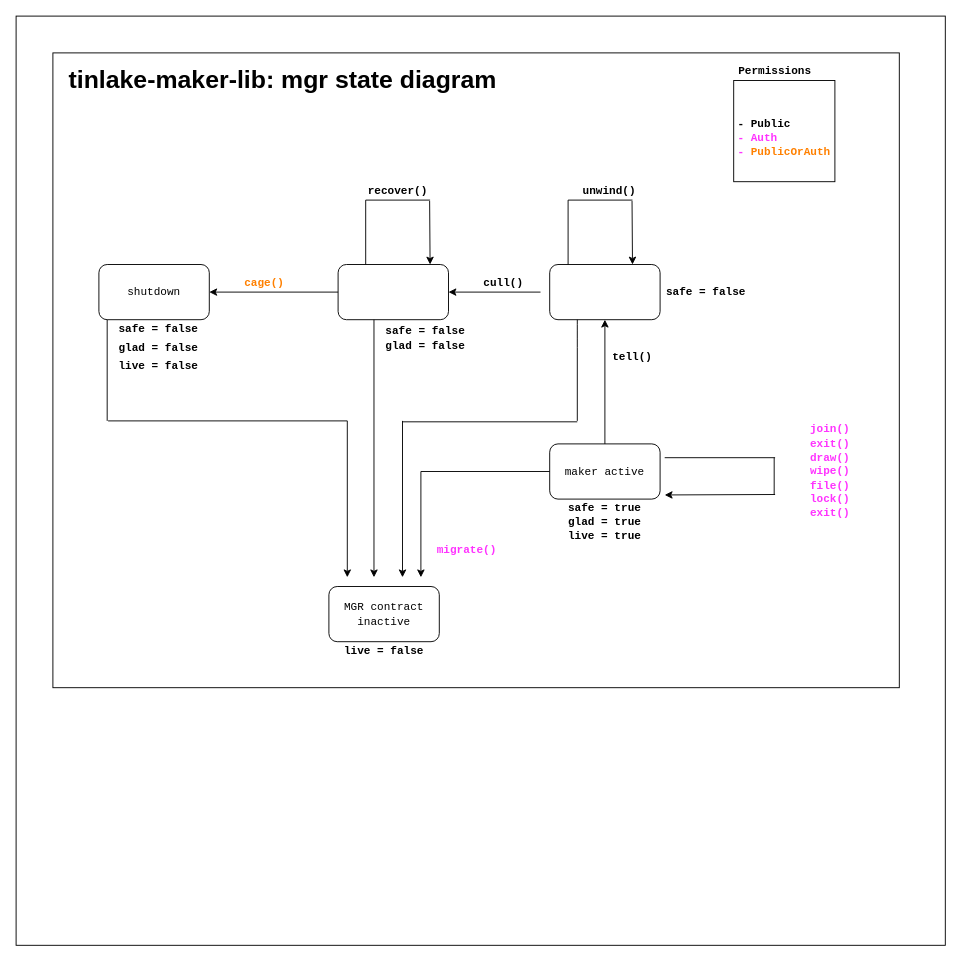
Some shapes in this 961 by 961 pixel diagram are drawn without their labels. Each missing label, with the centre of its shape:
soft-liquidation: point 604,292
write-off: point 392,292
